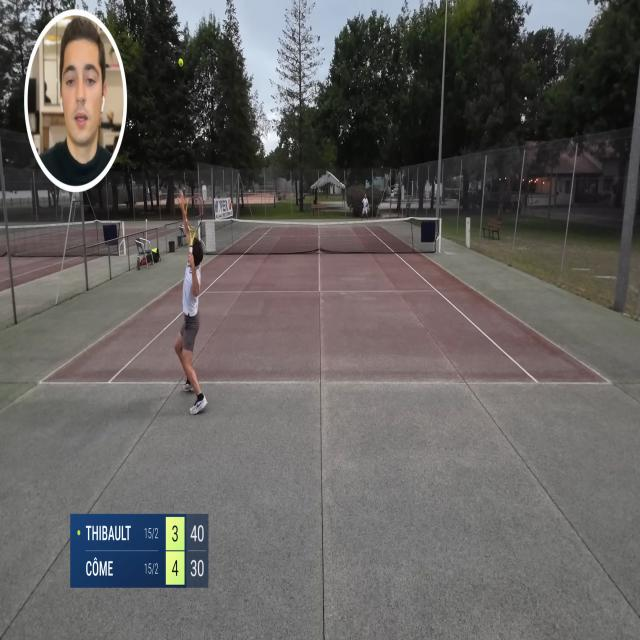ball: (177, 56, 185, 68)
